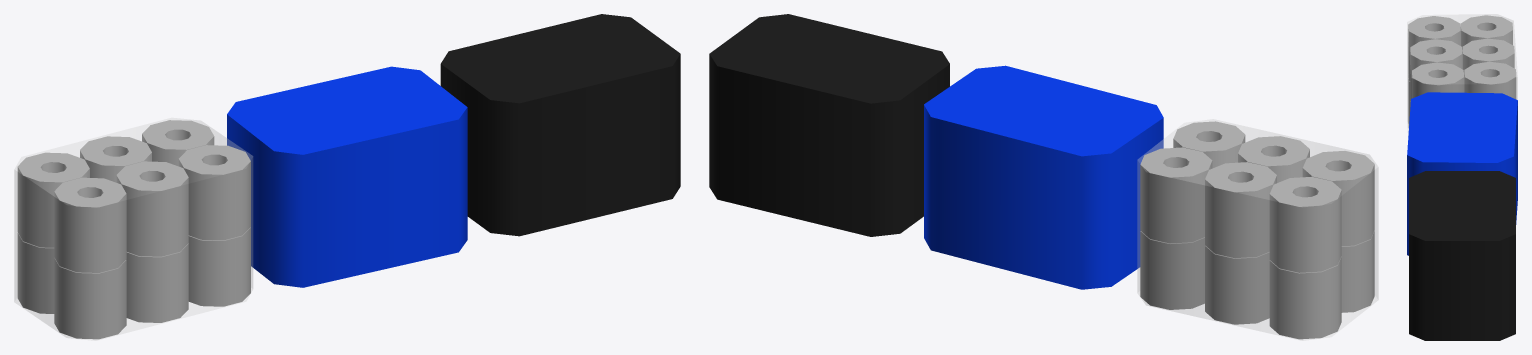
Rendered from ToiletPaper_tunz3i_Pack02.fbx.
3 views of the same model, side by side, from view 1: azimuth 30°, elevation 25°; view 2: azimuth 150°, elevation 25°; view 3: azimuth 270°, elevation 25° (orthographic). The views are drawn at different scales.
Parts seen in each view (by area): view 1: ToiletPaper_tunz3i_Pack02; view 2: ToiletPaper_tunz3i_Pack02; view 3: ToiletPaper_tunz3i_Pack02.
Boxes of the visible parts, x1=… form: ToiletPaper_tunz3i_Pack02: x1=14, y1=14, x2=680, y2=340; ToiletPaper_tunz3i_Pack02: x1=709, y1=14, x2=1378, y2=340; ToiletPaper_tunz3i_Pack02: x1=1407, y1=14, x2=1517, y2=340.
Size of the model in its own units: 144 by 29.64 by 29.79.
